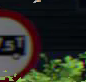Heavy Vehicles: (0, 4, 42, 80)
